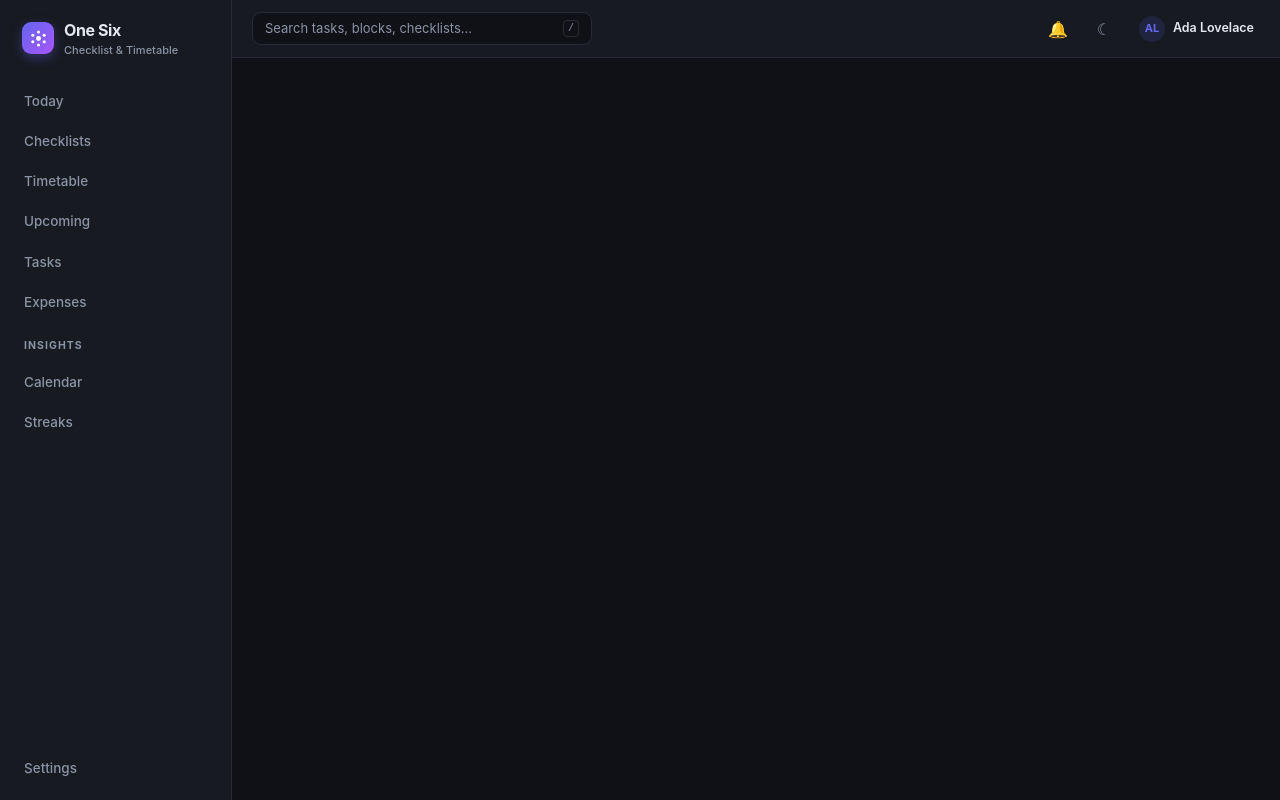
Test case: AppShellComponent user menu › shows the Admin link for admins
Click the button "AL Ada Lovelace".
click(1196, 28)  # box [1133,12,1260,46]
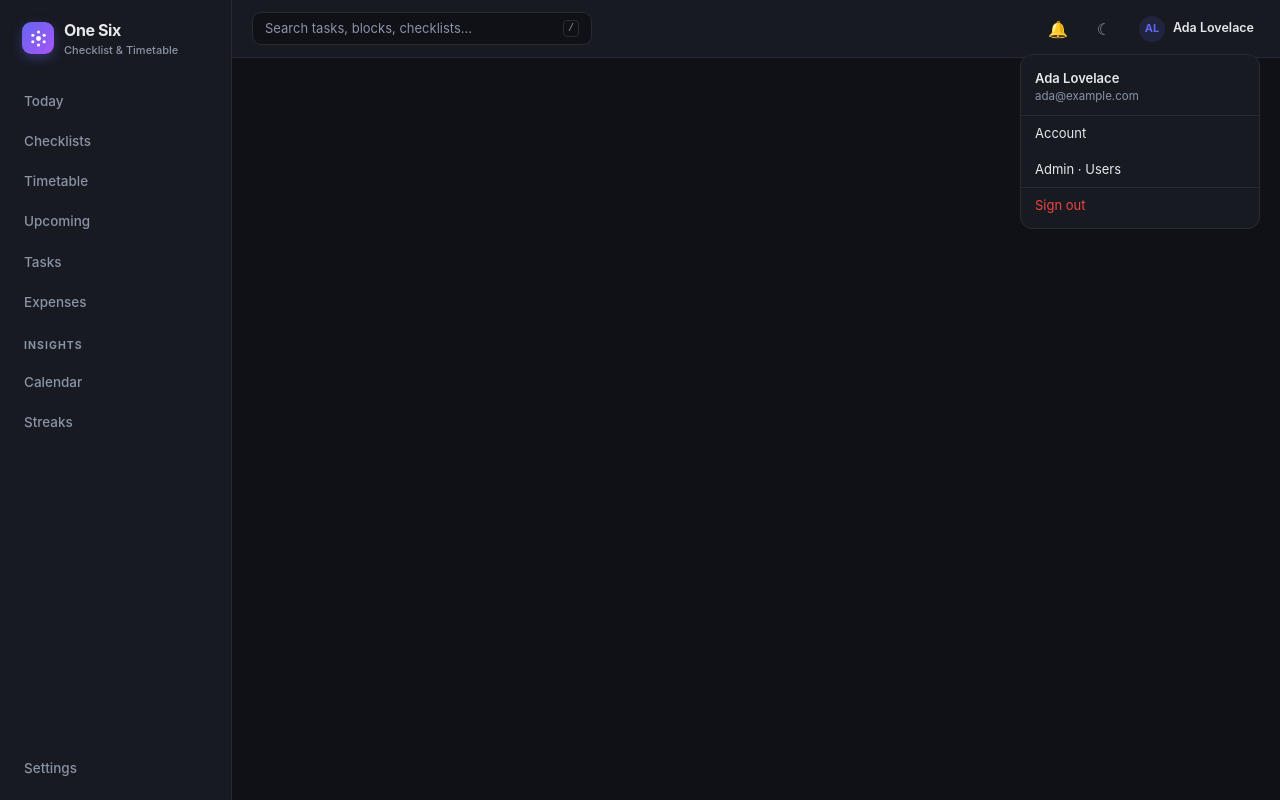
Expected: the menu item to "/admin/users" is shown, [1035,161,1121,177]
